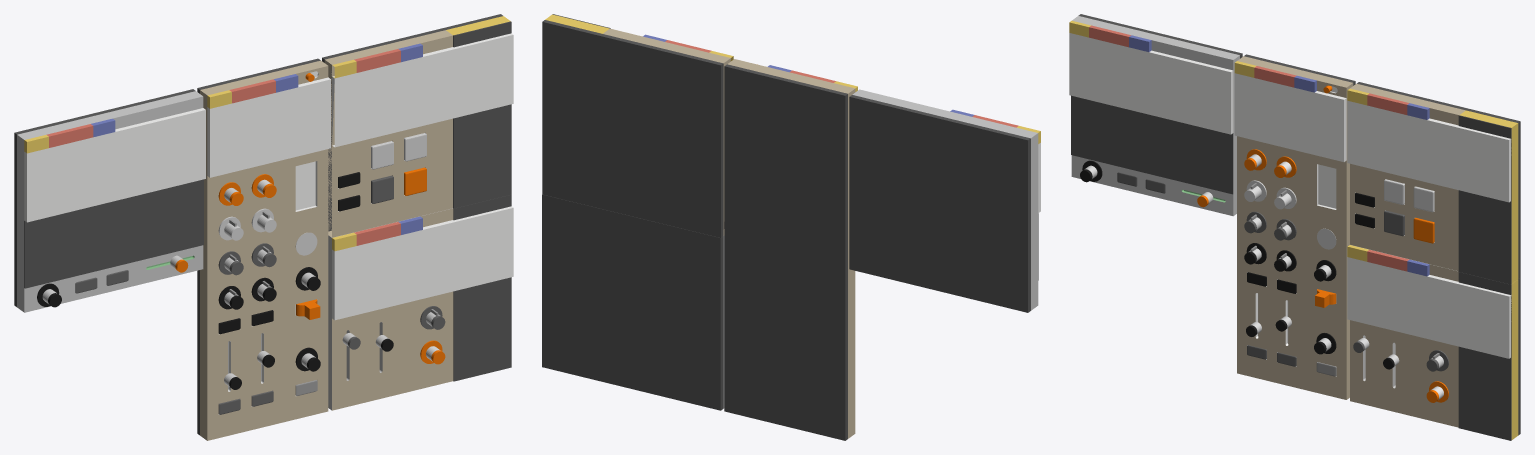
File: Mixer_firstDraft.glb
3 views of the same model, side by side, from view 1: azimuth 30°, elevation 25°; view 2: azimuth 150°, elevation 25°; view 3: azimuth 330°, elevation 25° (orthographic). The views are drawn at different scales.
Visible parts, largest first — view 1: BaseMain, baseAdditionthree, BaseAddition, BaseAdditiontwo, buttonMinusL, buttonPlayL, buttonPlusR, buttonRecordR; view 2: BaseMain, baseAdditionthree, BaseAddition, BaseAdditiontwo; view 3: BaseMain, baseAdditionthree, BaseAddition, BaseAdditiontwo, buttonPlusR, buttonRecordR, buttonMinusL, buttonPlayL.
Boxes of the visible parts, bbox=[...] form: BaseMain: bbox=[197, 58, 330, 440]; baseAdditionthree: bbox=[14, 89, 205, 312]; BaseAddition: bbox=[322, 14, 513, 237]; BaseAdditiontwo: bbox=[328, 194, 513, 410]; buttonMinusL: bbox=[371, 141, 393, 169]; buttonPlayL: bbox=[371, 175, 393, 203]; buttonPlusR: bbox=[404, 133, 426, 161]; buttonRecordR: bbox=[404, 167, 426, 195]; BaseMain: bbox=[724, 59, 857, 440]; baseAdditionthree: bbox=[849, 89, 1040, 312]; BaseAddition: bbox=[542, 14, 733, 237]; BaseAdditiontwo: bbox=[542, 194, 724, 410]; BaseMain: bbox=[1234, 54, 1355, 399]; baseAdditionthree: bbox=[1069, 14, 1242, 216]; BaseAddition: bbox=[1347, 82, 1520, 284]; BaseAdditiontwo: bbox=[1347, 245, 1520, 440]; buttonPlusR: bbox=[1413, 186, 1434, 212]; buttonRecordR: bbox=[1413, 217, 1434, 243]; buttonMinusL: bbox=[1384, 179, 1404, 204]; buttonPlayL: bbox=[1384, 210, 1404, 236].
Size of the model in its own units: 3.54 by 2.4 by 0.2301.
